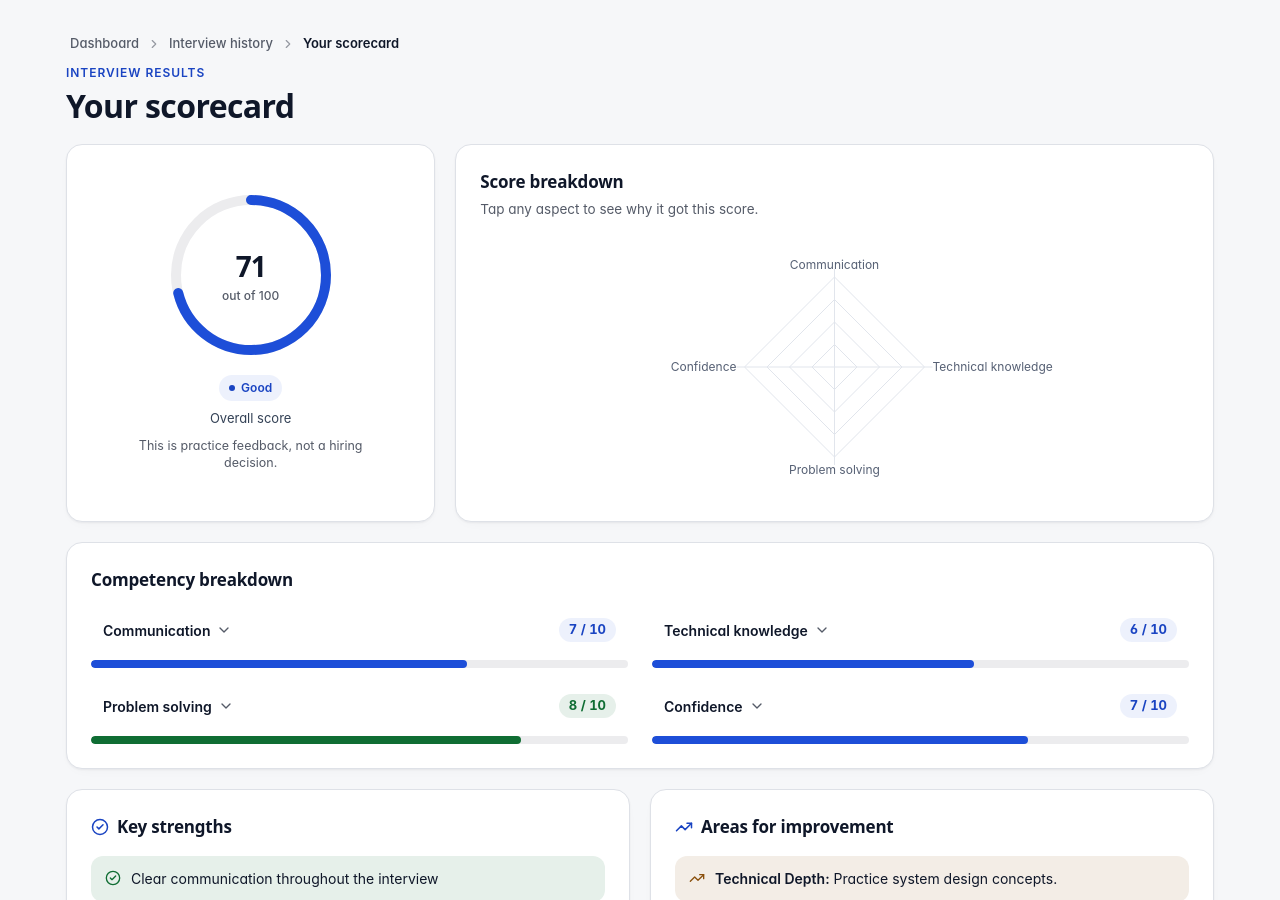
Test: Scorecard page › shows went-wrong and how-to-improve bullets when a competency is expanded
This screenshot has width=1280, height=900.
Expected: the heading "Your scorecard" is shown, [66,84,294,126]
Step 1. Click the button "Communication 7 / 10" → (157, 630), box [91,608,628,652]
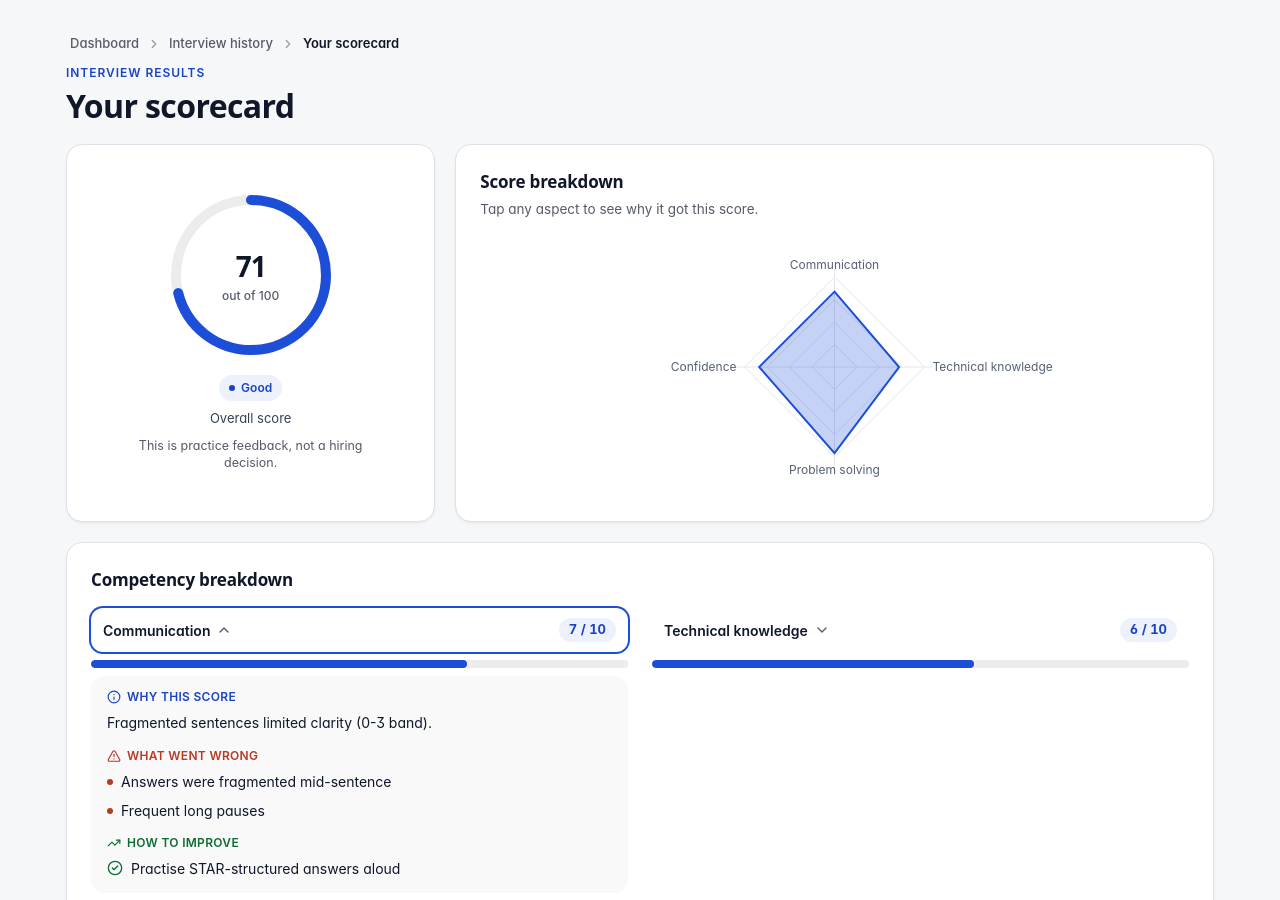
Result: the text "Fragmented sentences limited clarity (0-3 band)." is shown at [107,714,432,731]
Result: the text "What went wrong" is shown at [107,748,258,763]
Result: the list item "Answers were fragmented mid-sentence" is shown at [107,773,392,790]
